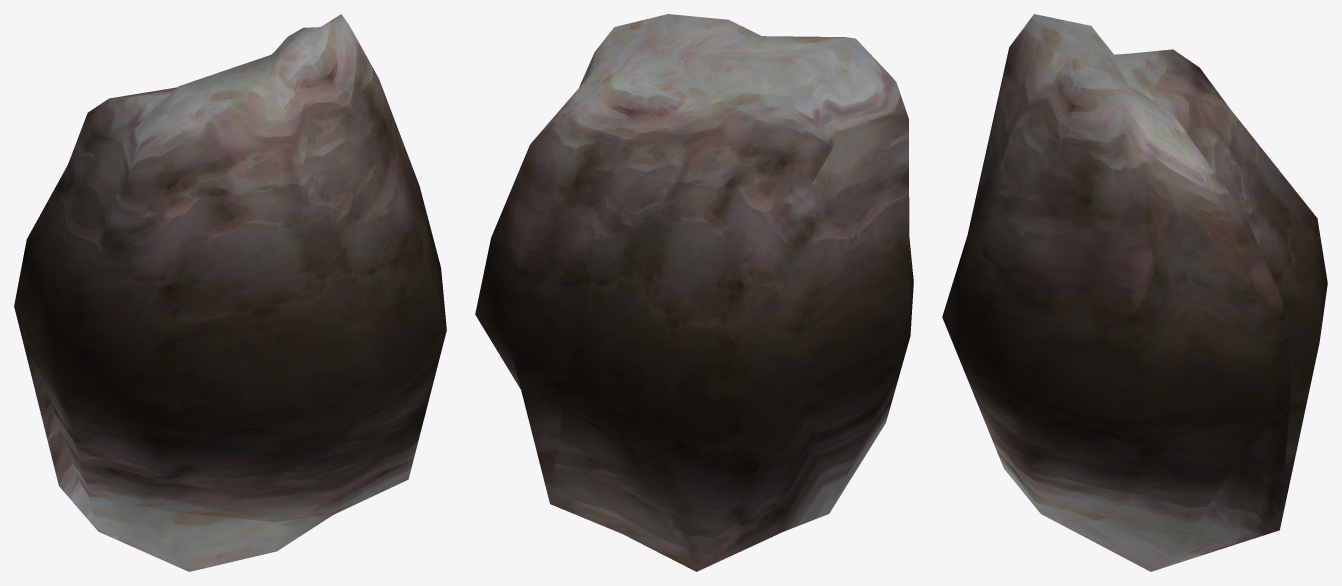
Rendered from sholazar_rockd_dark.obj.
The picture shows the model from 3 angles, left to right: view 1: azimuth 30°, elevation 25°; view 2: azimuth 150°, elevation 25°; view 3: azimuth 270°, elevation 25°; orthographic projection. The views are drawn at different scales.
Parts seen in each view (by area): view 1: sholazar_rockd_dark; view 2: sholazar_rockd_dark; view 3: sholazar_rockd_dark.
Part boxes in pixels (x1=…): sholazar_rockd_dark: x1=14, y1=14, x2=446, y2=571; sholazar_rockd_dark: x1=475, y1=14, x2=913, y2=571; sholazar_rockd_dark: x1=942, y1=14, x2=1327, y2=571.
Size of the model in its own units: 7.04 by 8.85 by 6.25.
1 material, 1 textured.
